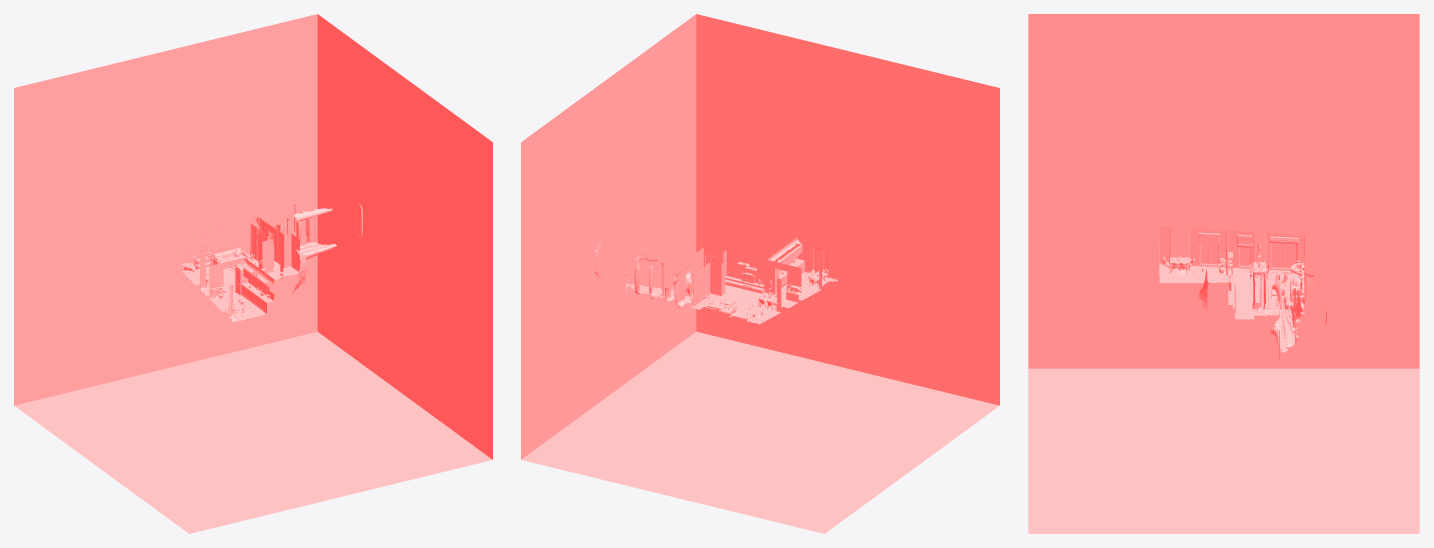
3 renders of one model, left to right at view 1: azimuth 30°, elevation 25°; view 2: azimuth 150°, elevation 25°; view 3: azimuth 270°, elevation 25°, orthographic. The views are drawn at different scales.
Visible parts, largest first — view 1: LayamaNode; view 2: LayamaNode; view 3: LayamaNode.
Boxes of the visible parts, x1,y1,x2,y2 form: LayamaNode: (14,14,492,533); LayamaNode: (521,14,999,533); LayamaNode: (1028,14,1419,533).
Size of the model in its own units: 2532 by 2532 by 2532.
